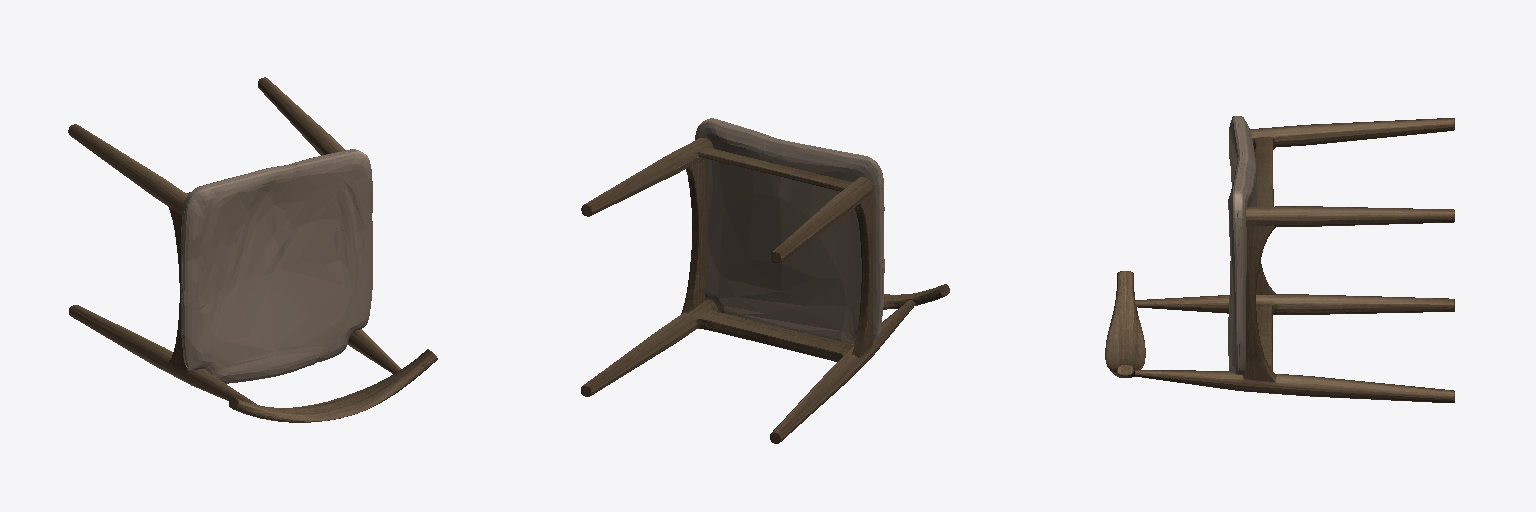
3 views of the same model, side by side, from view 1: azimuth 30°, elevation 25°; view 2: azimuth 150°, elevation 25°; view 3: azimuth 270°, elevation 25° (orthographic).
Bounding box in the file's own units: 0.5311 × 0.5093 × 0.7859.
Materials: 1 (1 with a texture image).